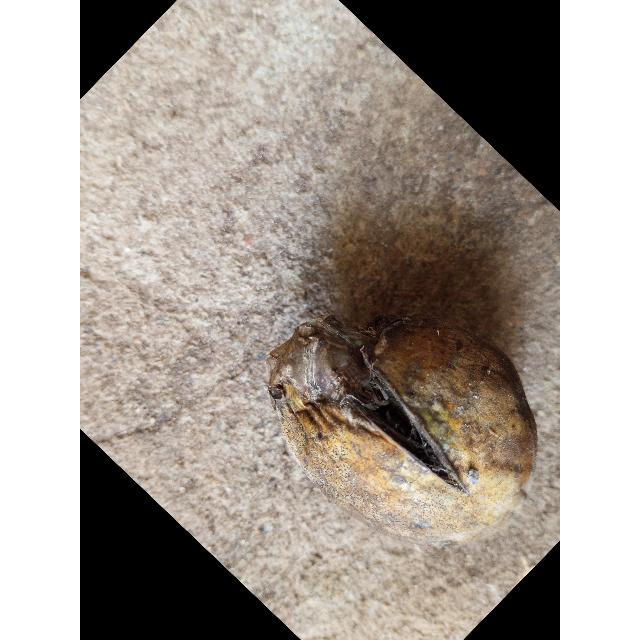damaged: (267, 313, 538, 546)
